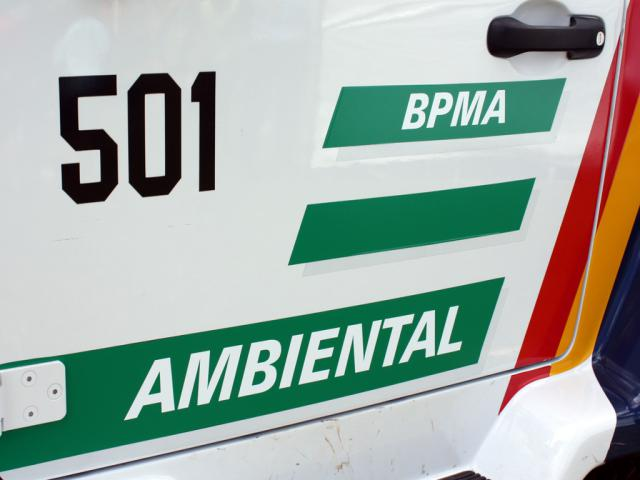Door-handle: (484, 12, 608, 66)
